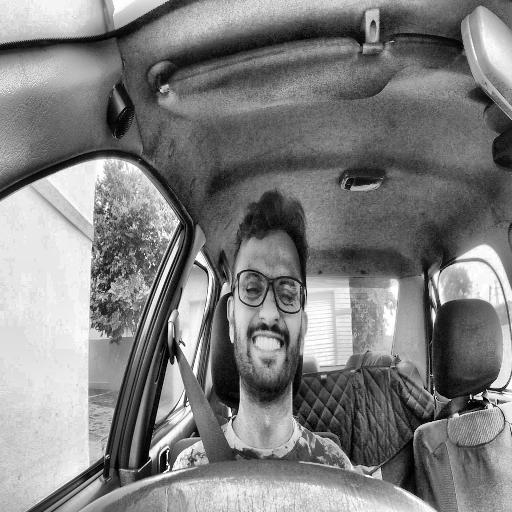drowsy: (226, 191, 310, 403)
